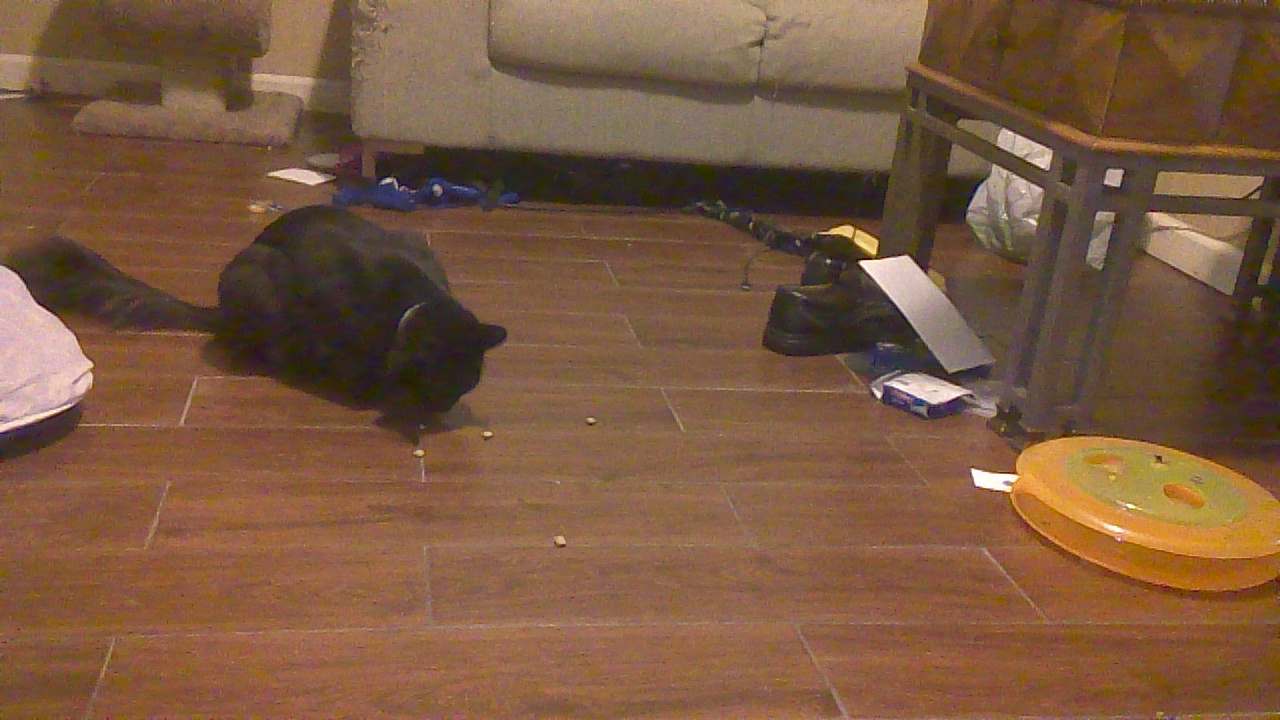cat: (1, 190, 510, 447)
